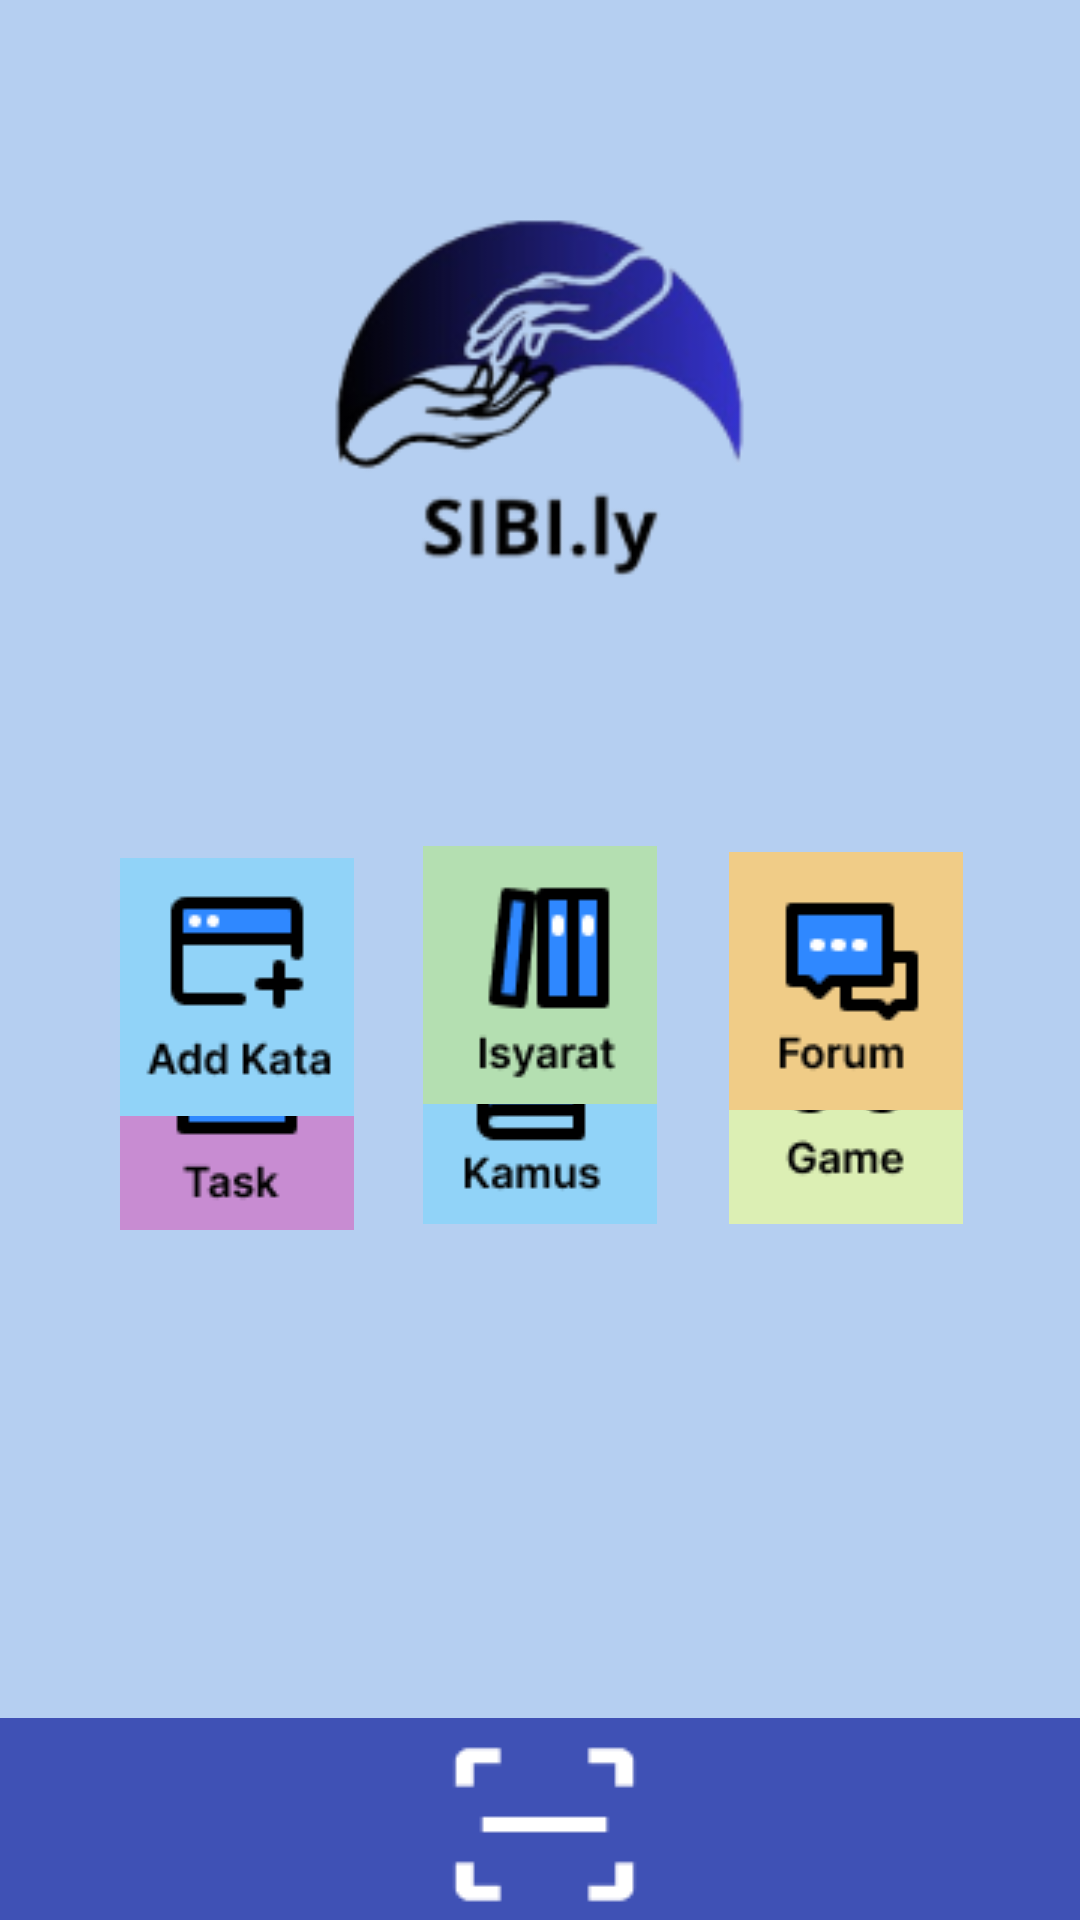

Icons on this 1080 x 1920 Android screen, each with the point to tap as point (x, y):
scan: point (544, 1824)
